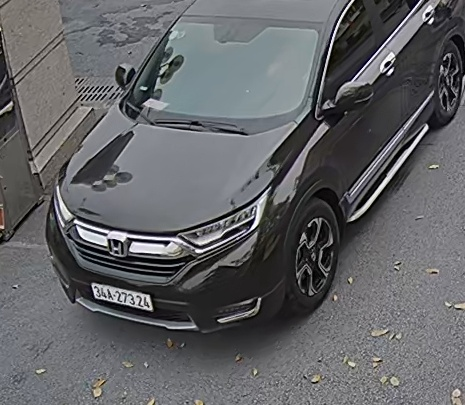vehicle plate: (83, 277, 157, 314)
